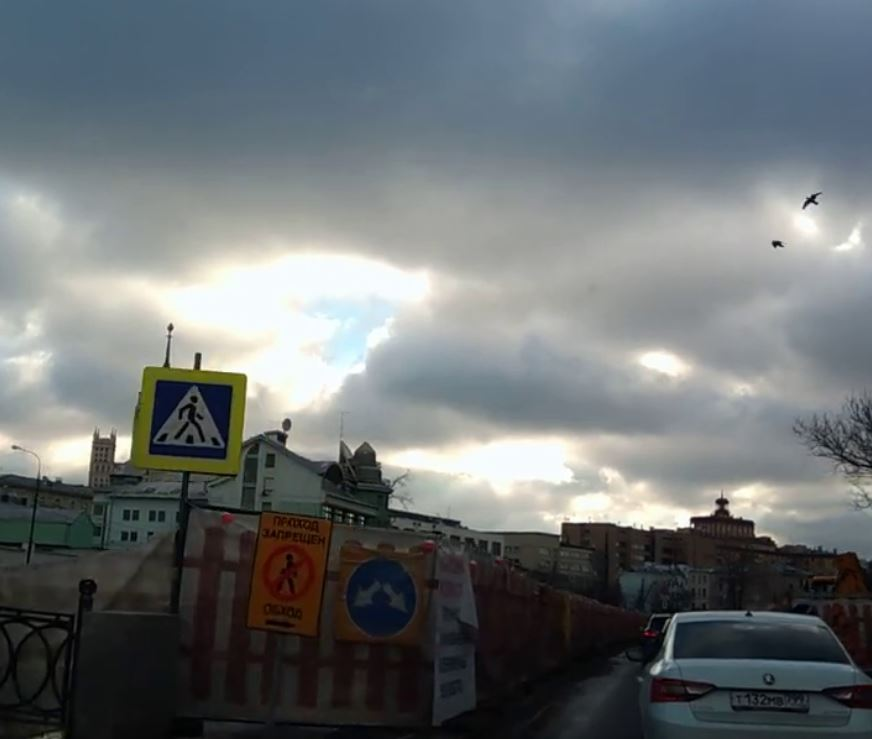Yaya Gecidi: (156, 385, 231, 458)
